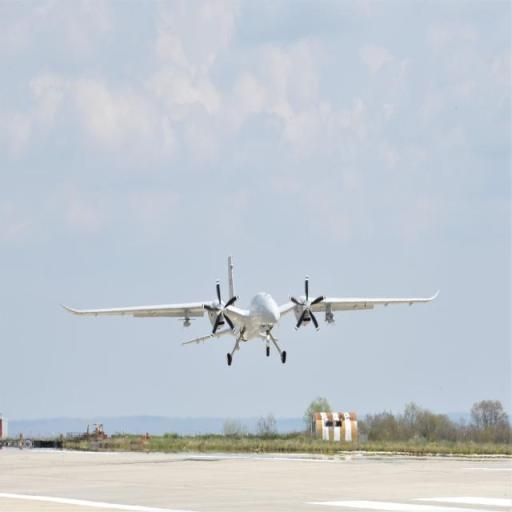uav: (62, 253, 444, 360)
